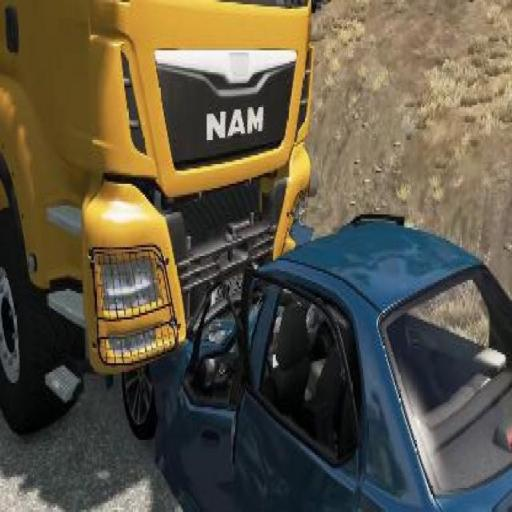小汽车撞小汽车: (4, 86, 512, 512)
